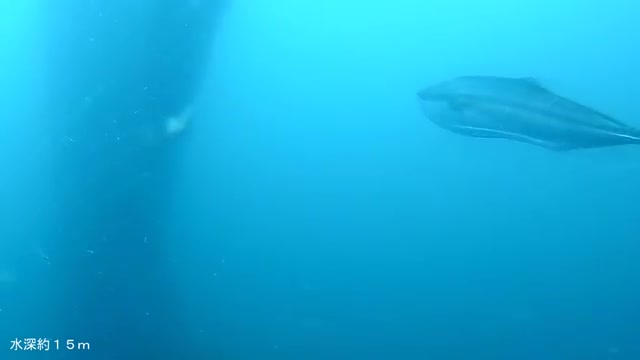smallfish: (412, 69, 640, 171)
